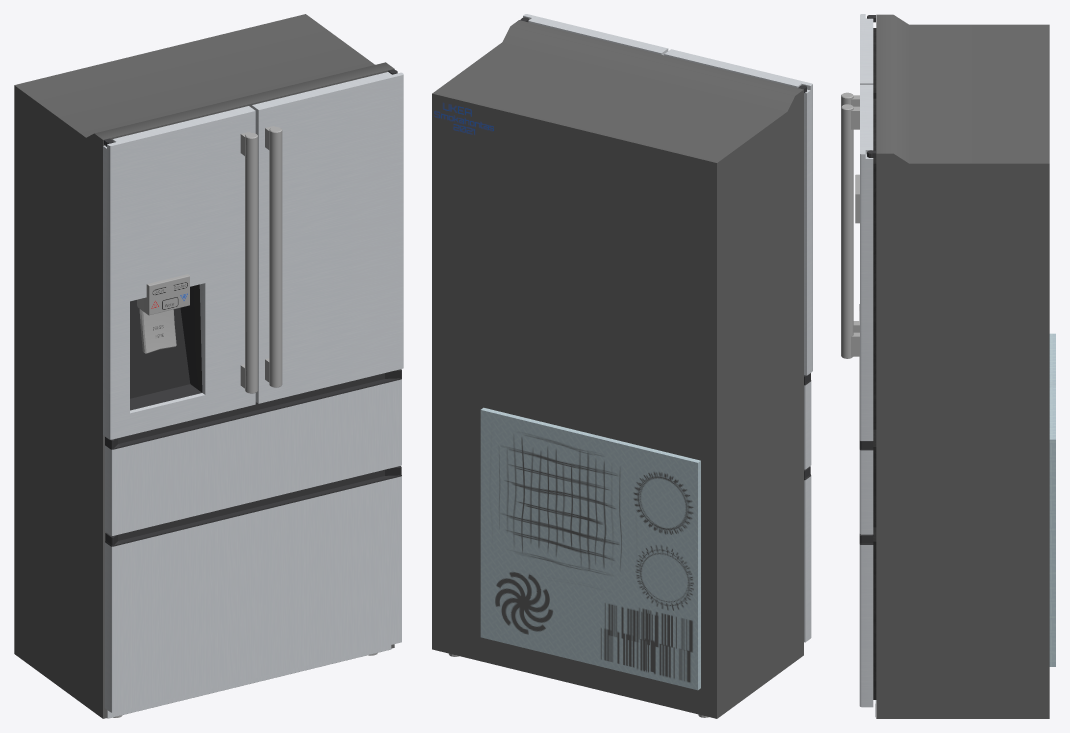
File: french_door_refrigerator_-_stainless.glb
3 views of the same model, side by side, from view 1: azimuth 30°, elevation 25°; view 2: azimuth 150°, elevation 25°; view 3: azimuth 270°, elevation 25° (orthographic). The views are drawn at different scales.
Visible parts, largest first — view 1: pCube17; view 2: pCube17; view 3: pCube17.
Boxes of the visible parts, x1,y1,x2,y2 form: pCube17: (14,14,403,718); pCube17: (432,14,812,718); pCube17: (841,14,1055,718).
Bounding box in the file's own units: 0.9596 × 1.82 × 0.6206.
6 materials, 6 textured.
